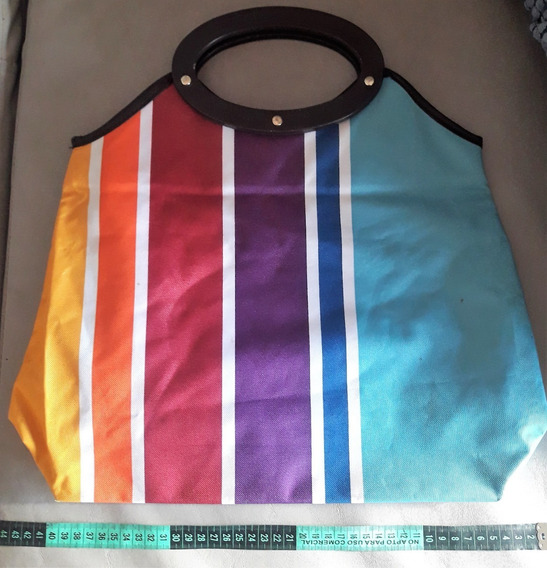cartera: (12, 5, 547, 505)
